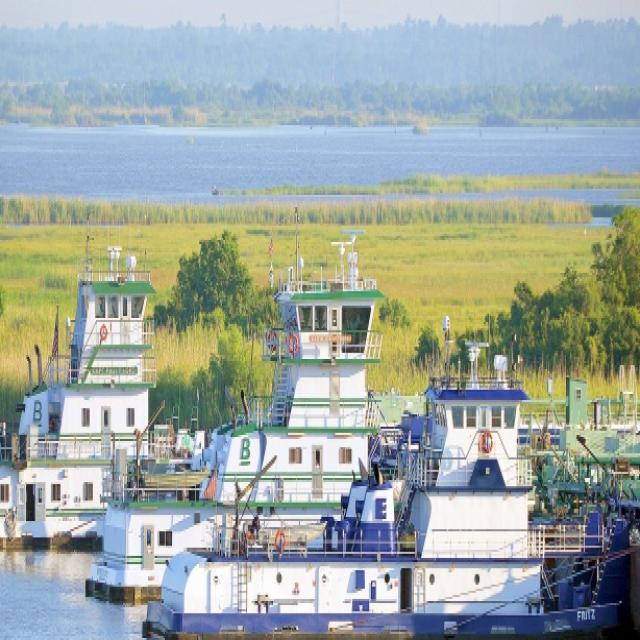tugboat: (138, 333, 638, 640)
